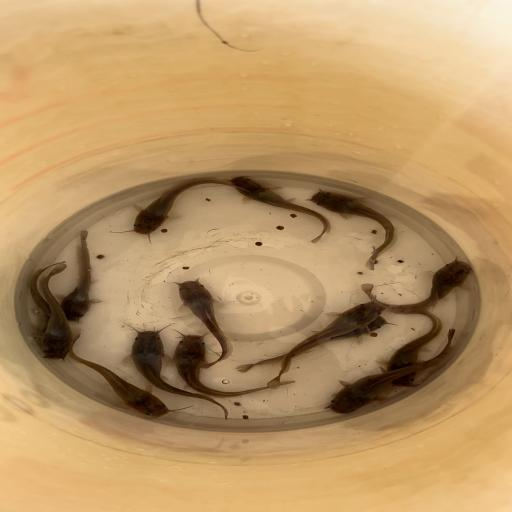lele: (324, 328, 456, 415), (266, 297, 389, 390), (123, 325, 230, 420), (68, 333, 173, 421), (234, 314, 388, 374), (171, 328, 296, 398), (121, 176, 251, 242), (224, 175, 332, 244), (307, 188, 396, 271), (359, 260, 473, 316), (170, 278, 233, 368), (384, 310, 444, 388), (54, 230, 102, 323), (40, 263, 78, 360), (27, 259, 67, 345)
